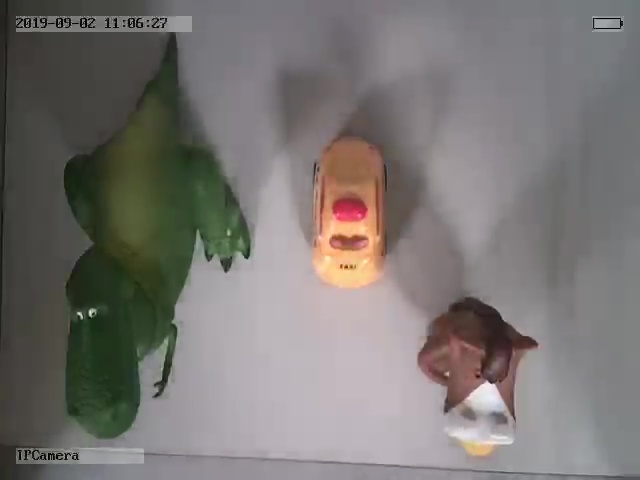car: (311, 135, 390, 291)
horse: (417, 296, 539, 459)
rex: (63, 50, 253, 438)
